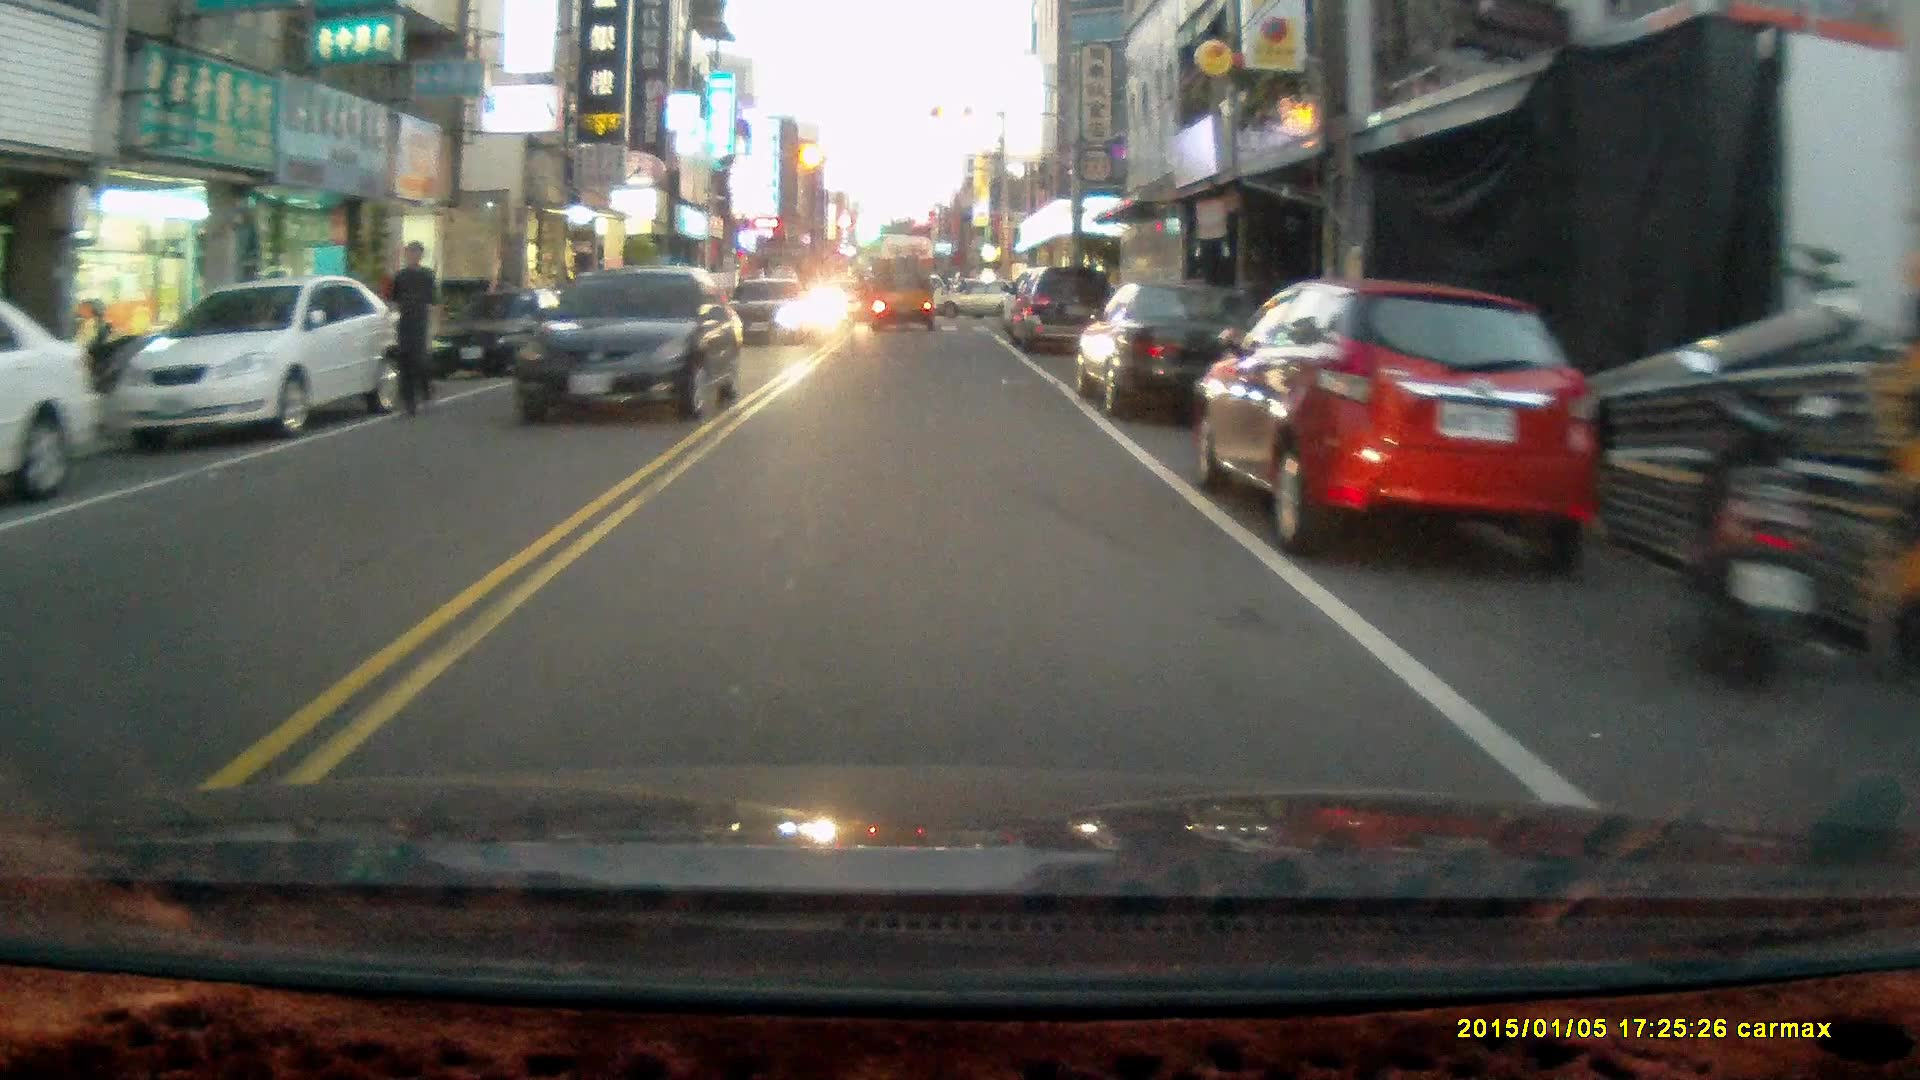pedestrian: (376, 238, 447, 420)
vehicle: (1200, 285, 1604, 576), (115, 273, 399, 440), (505, 262, 744, 421), (1075, 283, 1272, 424), (1, 302, 108, 513), (437, 290, 578, 389), (1000, 266, 1124, 359), (871, 263, 939, 338)
